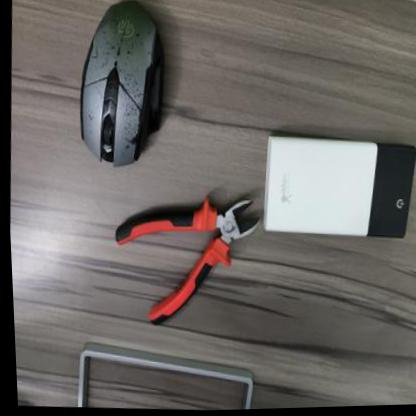mouserotation: (68, 0, 168, 173)
